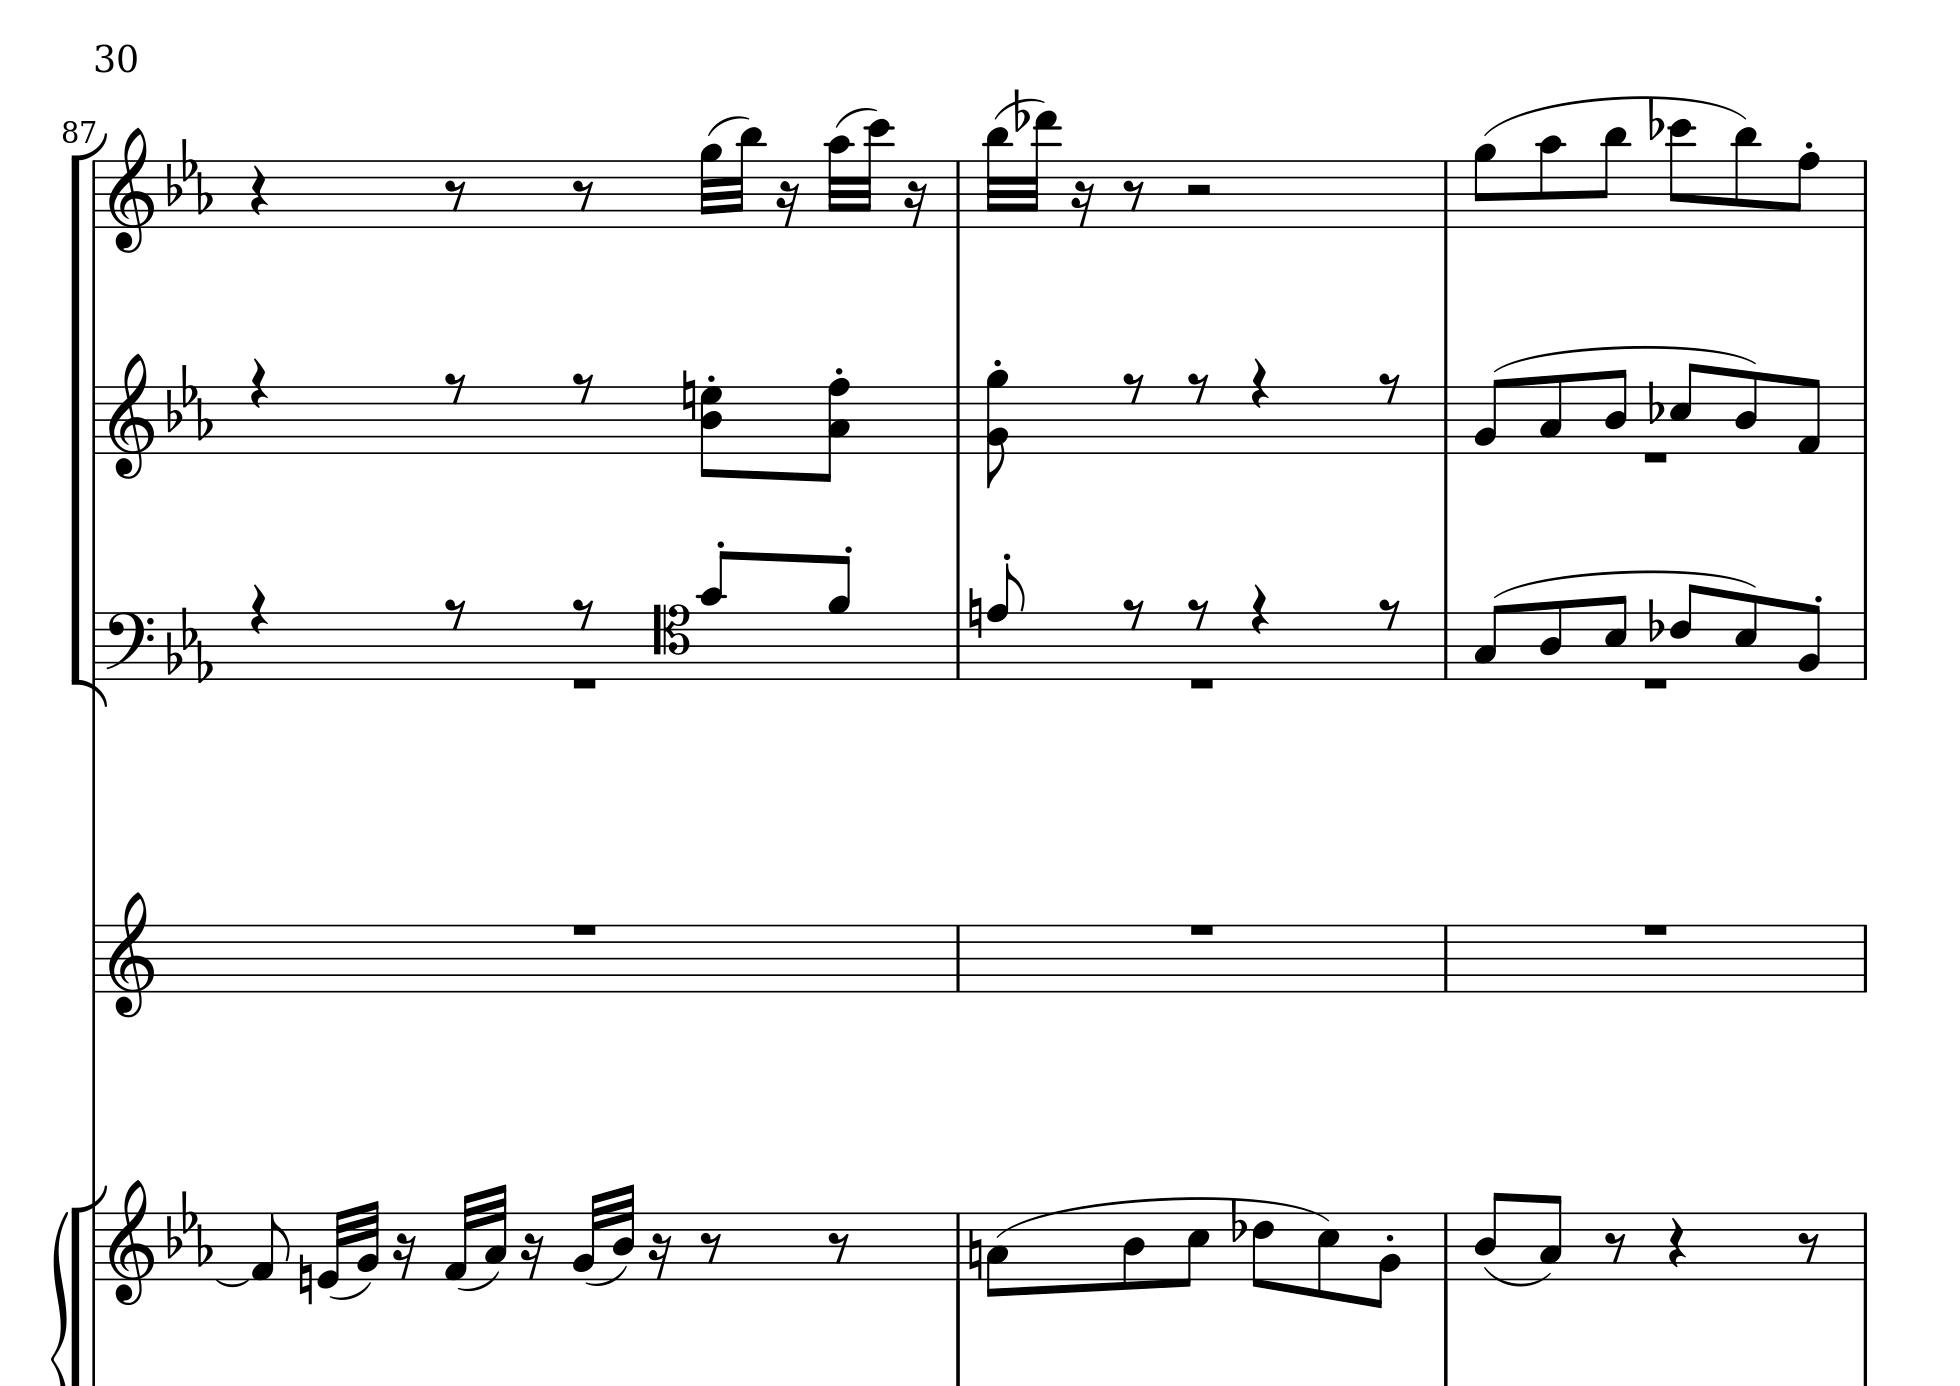0: (115, 40, 138, 73)
3: (93, 40, 115, 73)
32_0: (316, 1207, 349, 1290)
32_1: (442, 1191, 478, 1282)
32_10: (825, 133, 855, 229)
32_11: (730, 124, 762, 229), (984, 126, 1012, 229)
32_12: (856, 118, 892, 228)
32_13: (1024, 109, 1062, 232)
32_2: (571, 1191, 604, 1281), (355, 1198, 381, 1282)
32_3: (483, 1182, 508, 1282)
32_4: (610, 1182, 637, 1281)
32_9: (699, 142, 724, 229)
7: (79, 115, 97, 142)
8: (58, 117, 78, 145)
8_1: (249, 1210, 291, 1281), (1795, 375, 1822, 457)
8_10: (697, 547, 733, 681), (1536, 133, 1564, 231)
8_11: (1591, 124, 1629, 231), (1732, 124, 1761, 231)
8_12: (1668, 118, 1698, 229)
8_2: (1368, 1210, 1402, 1309), (1473, 376, 1506, 454), (1795, 601, 1822, 682)
8_2_9: (984, 367, 1009, 487)
8_3: (1473, 601, 1509, 681), (1539, 1192, 1563, 1282), (1539, 372, 1564, 456), (985, 1210, 1009, 1299)
8_3_8: (817, 376, 853, 481)
8_4: (1473, 1189, 1506, 1279), (1603, 367, 1629, 456), (1734, 367, 1759, 456), (1539, 598, 1564, 681), (1122, 1210, 1147, 1291)
8_4_7: (699, 382, 724, 480)
8_5: (1669, 361, 1702, 454), (1176, 1209, 1212, 1288), (1734, 592, 1761, 682), (1603, 592, 1629, 682), (1317, 1210, 1341, 1302)
8_6: (1669, 580, 1702, 682), (1251, 1210, 1275, 1291)
8_8: (987, 559, 1023, 682), (1786, 150, 1821, 231)
8_9: (826, 550, 853, 681), (1473, 142, 1497, 229)
E_F: (165, 135, 214, 214), (165, 361, 214, 439), (166, 1188, 214, 1267), (165, 603, 213, 681)
Fclef: (105, 610, 154, 682)
Flat: (1647, 378, 1665, 424), (1230, 1200, 1248, 1246), (1647, 595, 1665, 640), (1647, 97, 1663, 141), (1014, 85, 1029, 130)
Gclef: (106, 889, 157, 1020), (106, 1177, 157, 1308), (108, 352, 156, 480), (108, 127, 156, 253)
Natural: (681, 367, 697, 423), (967, 586, 984, 640), (298, 1251, 313, 1303), (967, 1228, 982, 1279)
Rests1: (568, 919, 601, 939), (1639, 919, 1672, 939), (1188, 673, 1218, 694), (568, 673, 600, 693), (1186, 919, 1218, 939), (1641, 673, 1671, 693), (1641, 448, 1671, 466)
Rests16: (1071, 178, 1096, 229), (648, 1231, 673, 1281), (391, 1231, 417, 1279), (775, 180, 799, 229), (903, 178, 927, 226), (520, 1231, 544, 1279)
Rests2: (1185, 181, 1213, 196)
Rests4: (247, 355, 270, 409), (1248, 355, 1270, 409), (1666, 1215, 1687, 1270), (247, 163, 268, 217), (247, 582, 268, 636), (1248, 582, 1269, 634)
Rests8: (442, 367, 468, 403), (442, 594, 468, 628), (1377, 594, 1402, 628), (1377, 370, 1402, 403), (571, 369, 595, 403), (1122, 370, 1146, 405), (1122, 595, 1146, 630), (826, 1228, 850, 1263), (1797, 1228, 1821, 1263), (571, 177, 595, 210), (571, 595, 595, 628), (1186, 595, 1210, 628), (697, 1228, 721, 1261), (1188, 369, 1210, 403), (1605, 1228, 1627, 1263), (444, 177, 466, 210), (1122, 178, 1143, 210)
Single_barline: (1437, 385, 1455, 453), (1437, 610, 1455, 678), (949, 1212, 967, 1279), (1437, 160, 1455, 226), (88, 160, 106, 226), (87, 385, 103, 454), (1857, 385, 1873, 454), (88, 1210, 105, 1279), (1438, 1210, 1455, 1279), (949, 385, 966, 453), (949, 612, 966, 679), (1857, 924, 1873, 991), (1857, 160, 1873, 226), (85, 925, 102, 991), (949, 925, 966, 991), (1438, 925, 1455, 991), (1857, 1212, 1873, 1278), (1857, 610, 1872, 679), (87, 610, 102, 678), (949, 160, 964, 223)
Slur: (1482, 1264, 1551, 1287), (583, 1264, 628, 1287), (456, 1270, 501, 1293), (835, 105, 877, 129), (328, 1279, 373, 1300), (708, 115, 748, 136), (996, 97, 1047, 112), (214, 1276, 250, 1287)
Tensor_Cclef: (651, 601, 690, 679)
